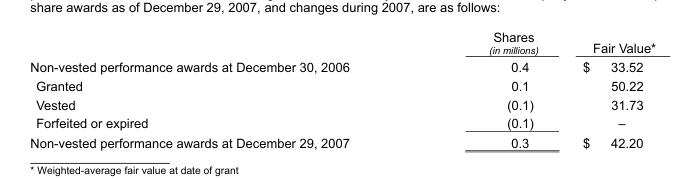table: (29, 29, 655, 149)
table column: (29, 29, 418, 149), (418, 29, 559, 149), (559, 29, 655, 149)
table column header: (29, 29, 655, 57)
table row: (29, 29, 655, 57), (29, 57, 655, 76), (29, 94, 655, 113), (29, 113, 655, 132), (29, 76, 655, 94), (29, 132, 655, 149)
